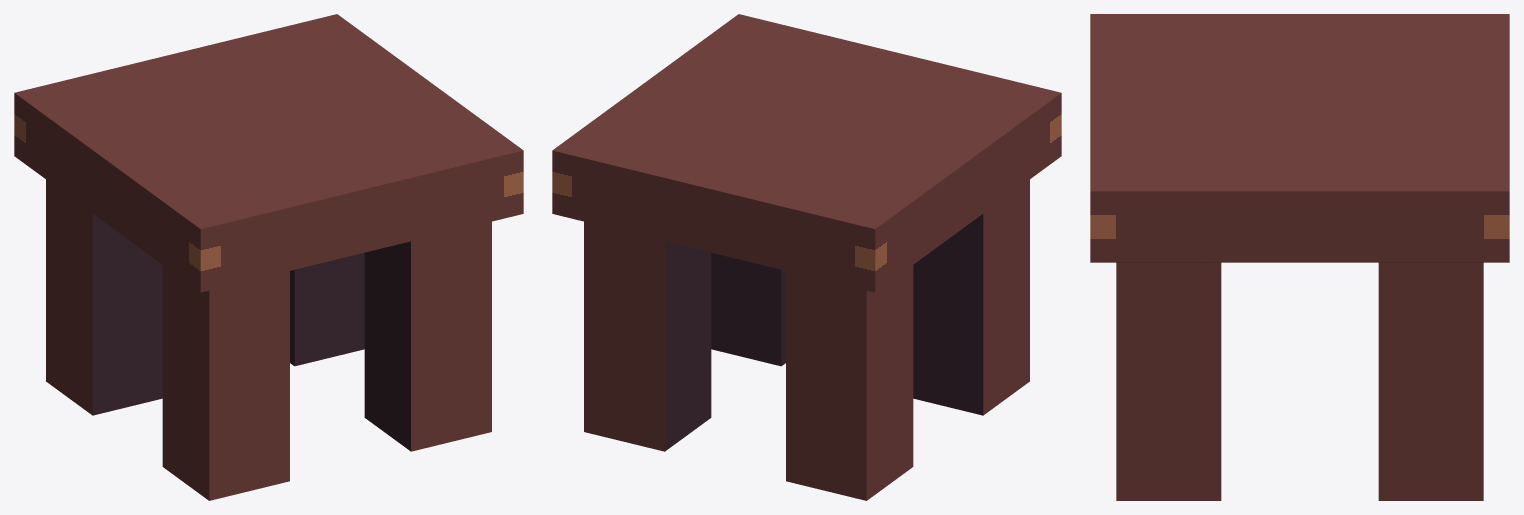
The model's file is LilTable.gltf.
3 views of the same model, side by side, from view 1: azimuth 30°, elevation 25°; view 2: azimuth 150°, elevation 25°; view 3: azimuth 270°, elevation 25° (orthographic). The views are drawn at different scales.
Parts seen in each view (by area): view 1: mesh; view 2: mesh; view 3: mesh.
Part boxes in pixels (x1,y1,x2,y2): mesh: [14, 14, 523, 500]; mesh: [552, 14, 1061, 500]; mesh: [1090, 14, 1509, 500].
Bounding box in the file's own units: 1 × 0.8438 × 1.
Materials: 1 (1 with a texture image).
